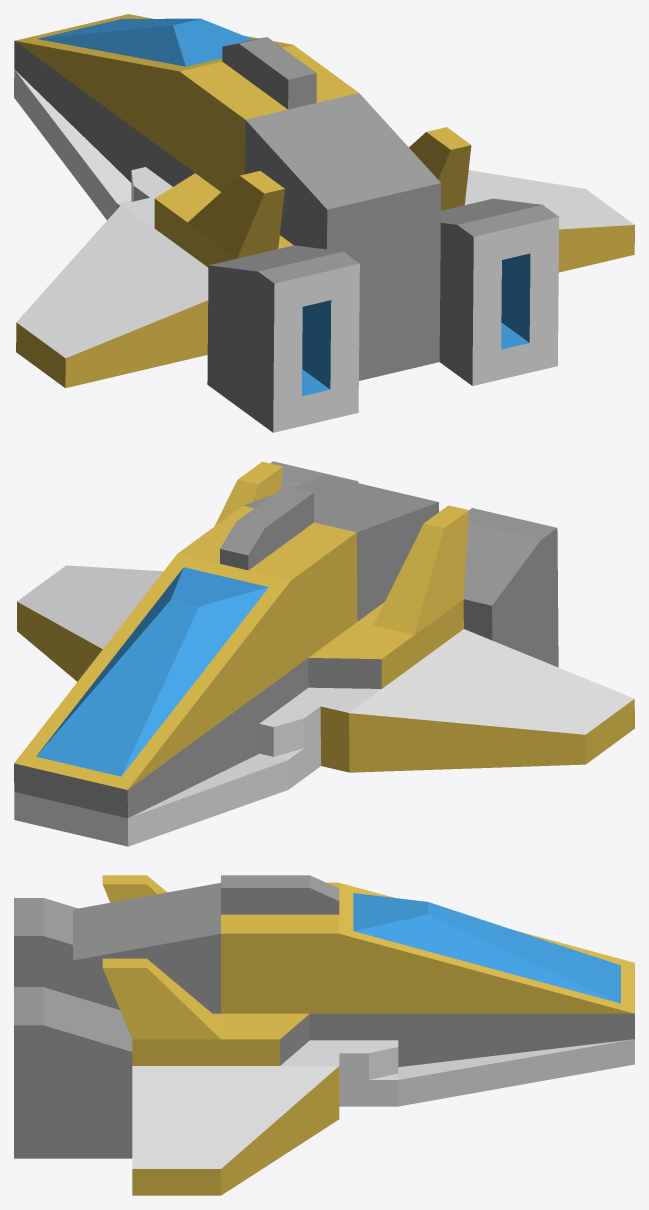
The model's file is nave1.glb.
The picture shows the model from 3 angles, top to bottom: view 1: azimuth 30°, elevation 25°; view 2: azimuth 150°, elevation 25°; view 3: azimuth 270°, elevation 25°; orthographic projection. The views are drawn at different scales.
Visible parts, largest first — view 1: craft_speederA; view 2: craft_speederA; view 3: craft_speederA.
Boxes of the visible parts, x1,y1,x2,y2 form: craft_speederA: (14,14,634,432); craft_speederA: (14,461,634,846); craft_speederA: (14,875,634,1195).
Bounding box in the file's own units: 2 × 0.805 × 2.1.
